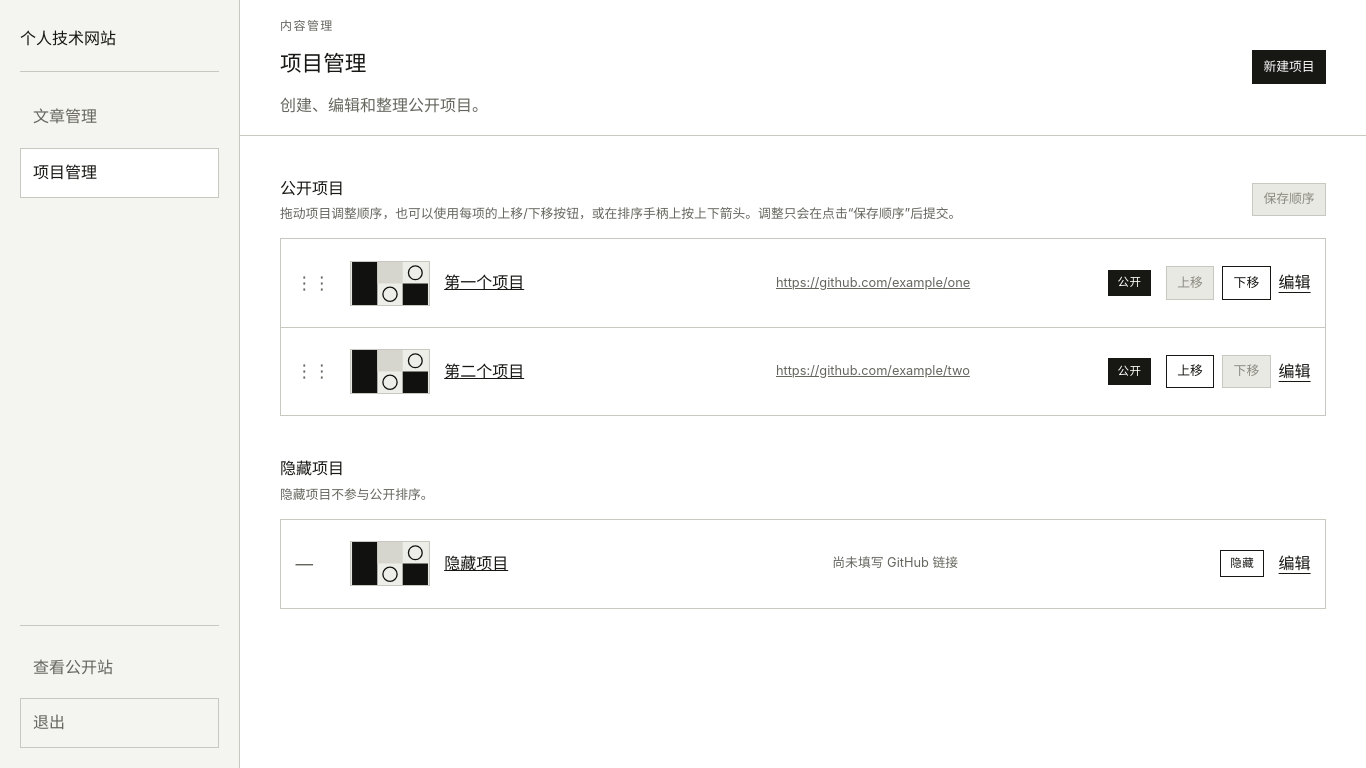
it: 管理端路由页面 › 项目分组按响应顺序渲染，显式上移后只在保存顺序时提交
expect the number of elements with class "status--solid" is 2: met, box 1108,270 -> 1152,296; 1108,358 -> 1152,385
expect the number of elements with class "status--outline" is 1: met, box 1220,550 -> 1264,577
Press ArrowDown in the text with class "drag-handle" next to "第一个项目", box 295,269 -> 335,297
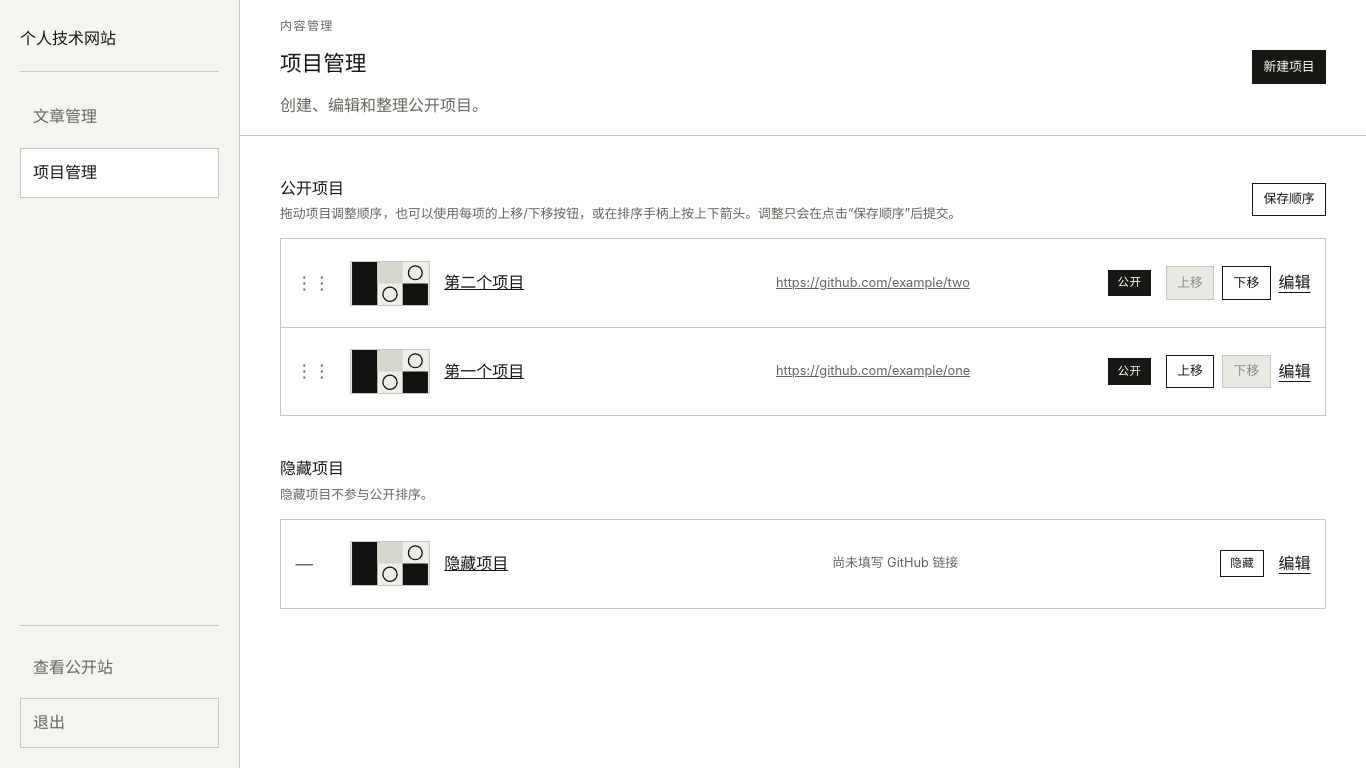
Press ArrowUp in the text with class "drag-handle" next to "第一个项目", box 295,358 -> 335,386
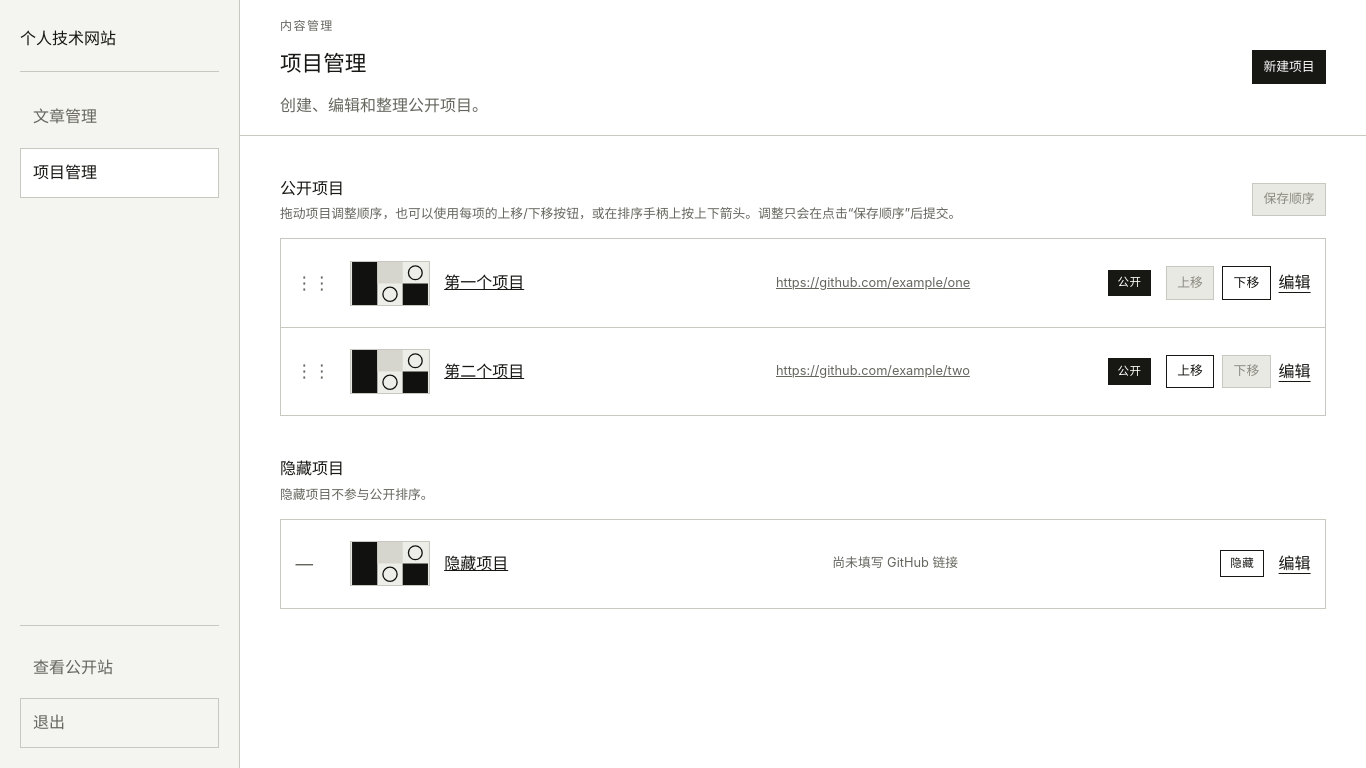
expect the text with class "sortable-item__link" reads "尚未填写 GitHub 链接": met, box 832,555 -> 958,570
Click the button "上移" in the row of "第二个项目" at point(1190, 372), box 1166,355 -> 1214,388
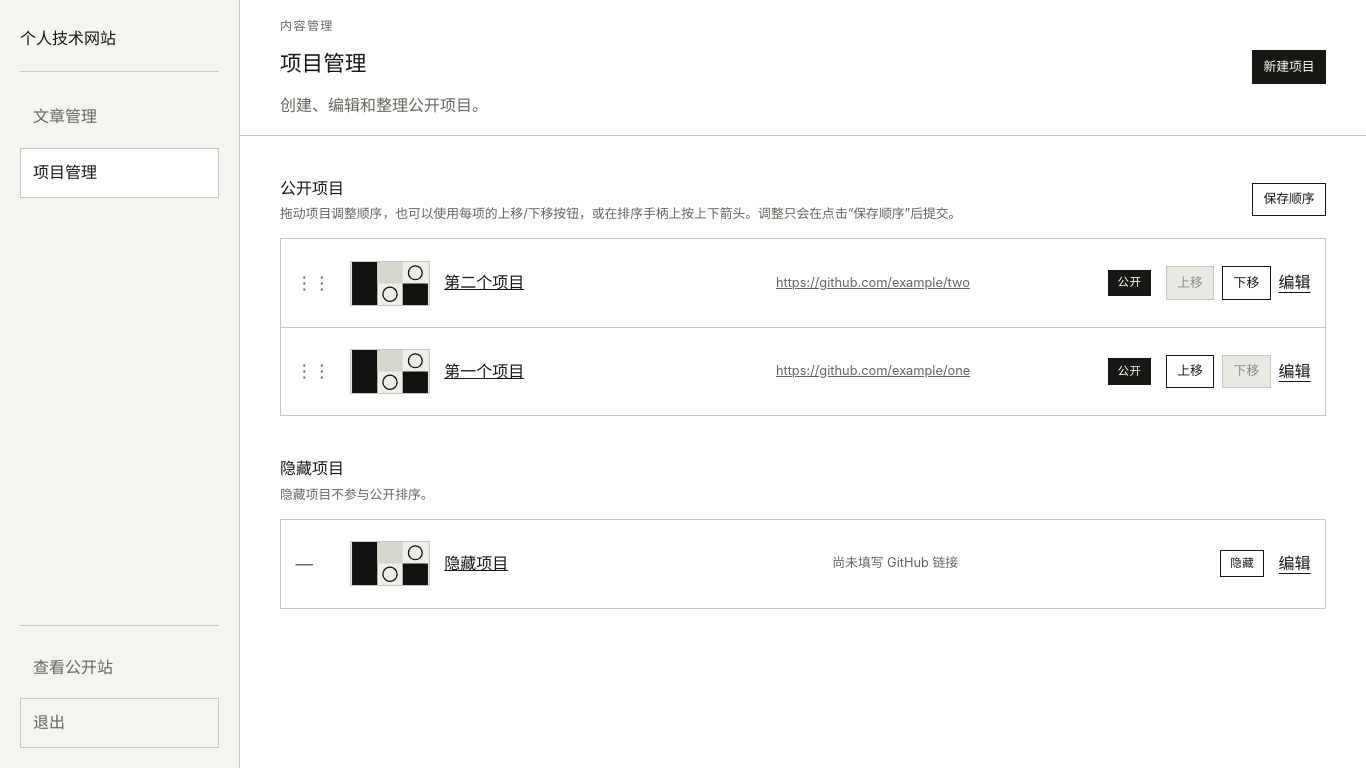
Click the button "保存顺序" at point(1289, 200), box 1252,183 -> 1326,216
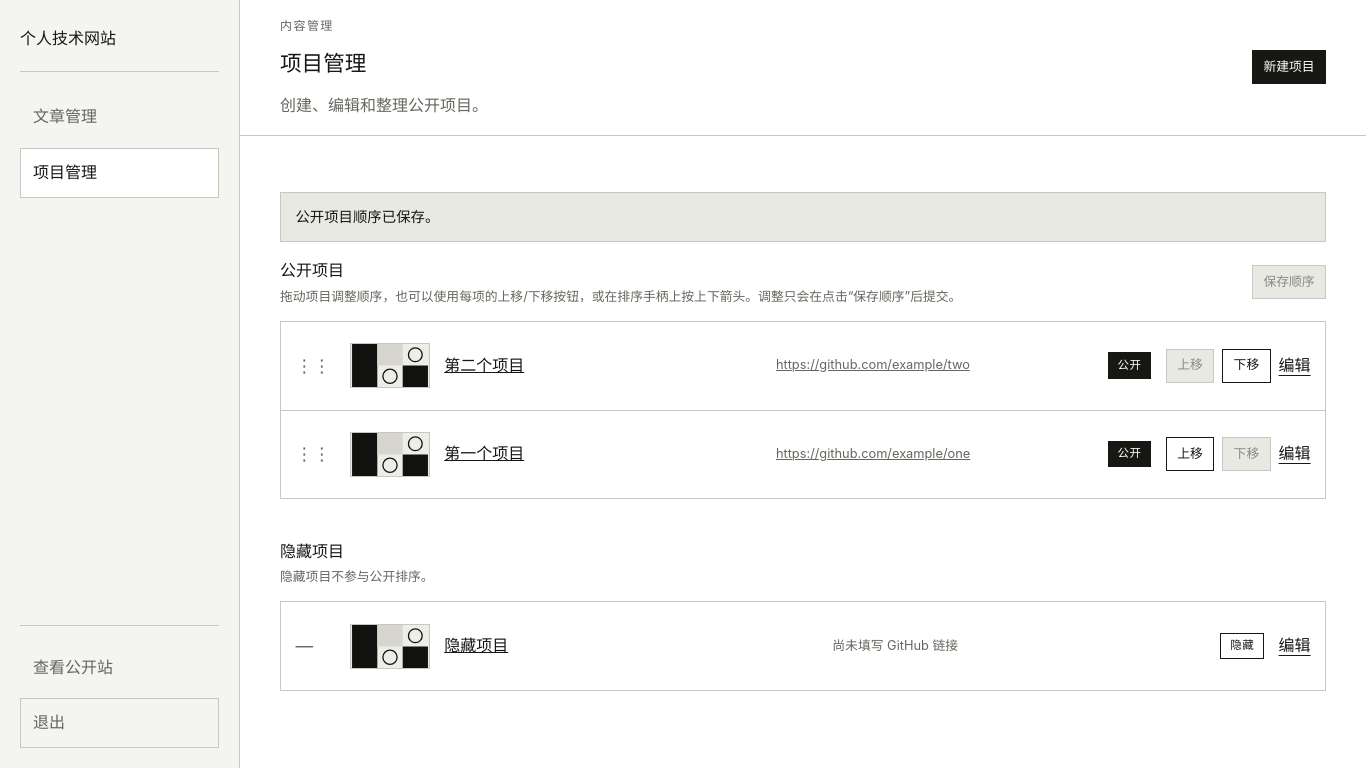
expect the text "公开项目顺序已保存" is shown: met, box 295,208 -> 439,225
